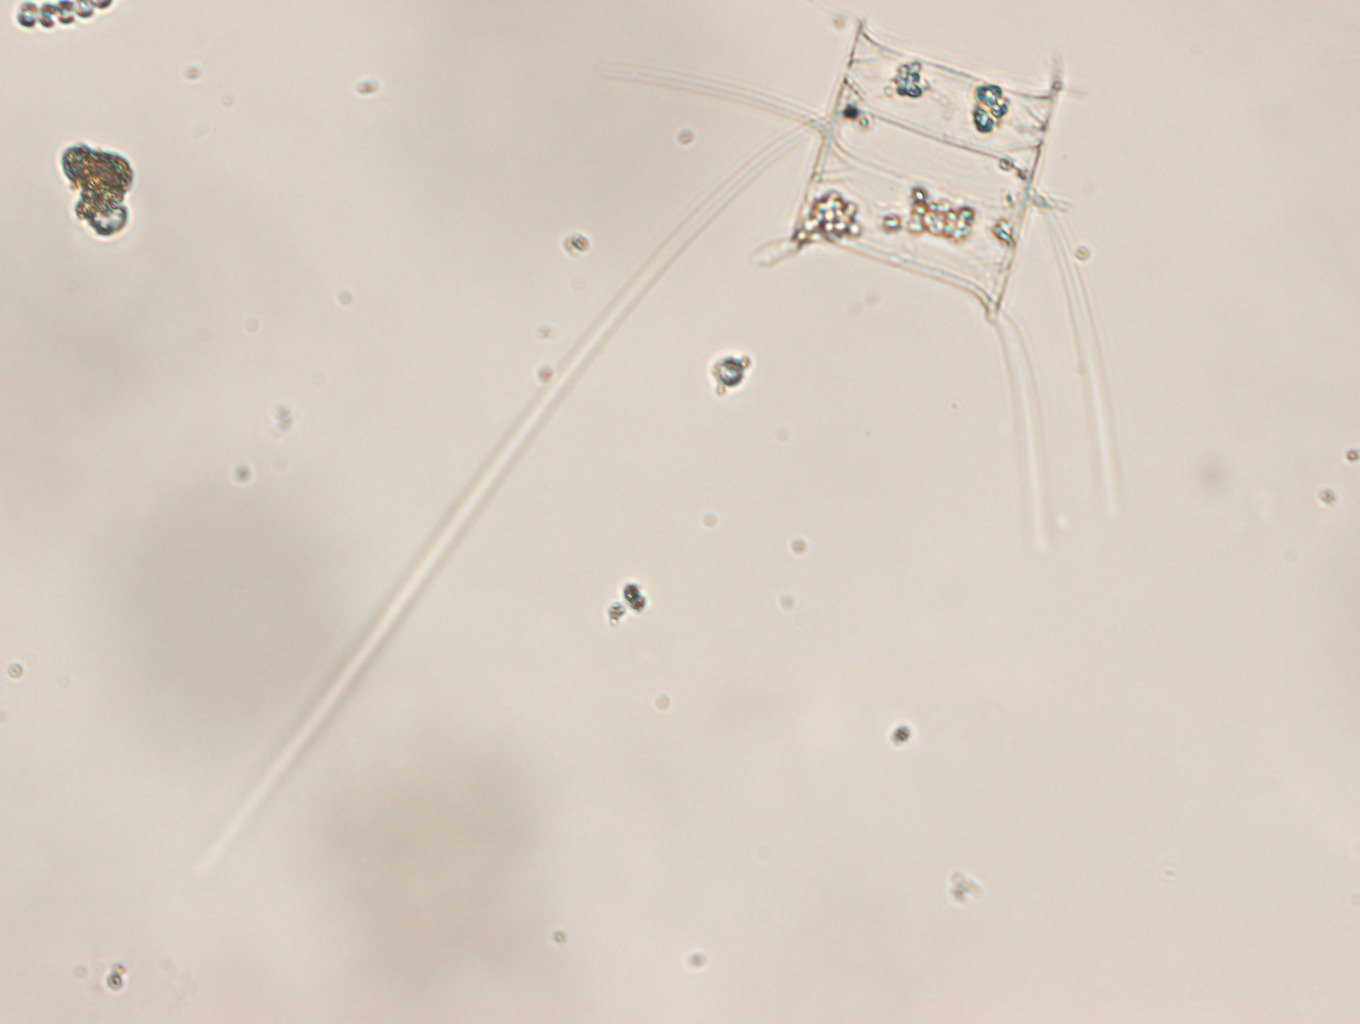chaetoceros: (187, 1, 1132, 886)
